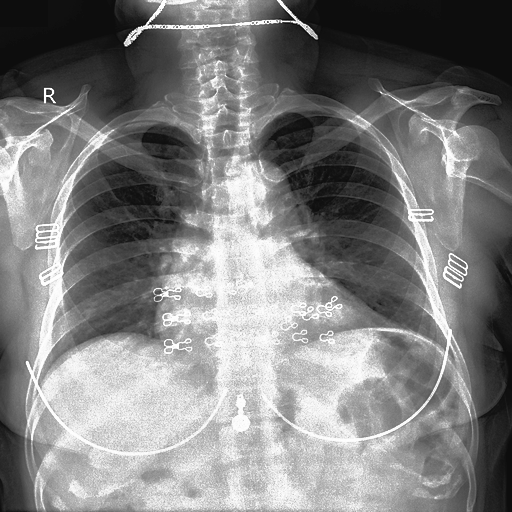Calcification: (283, 105, 331, 114), (125, 121, 157, 130)
Consolidation: (231, 161, 299, 231)
Nodule/Mass: (151, 292, 386, 351)
